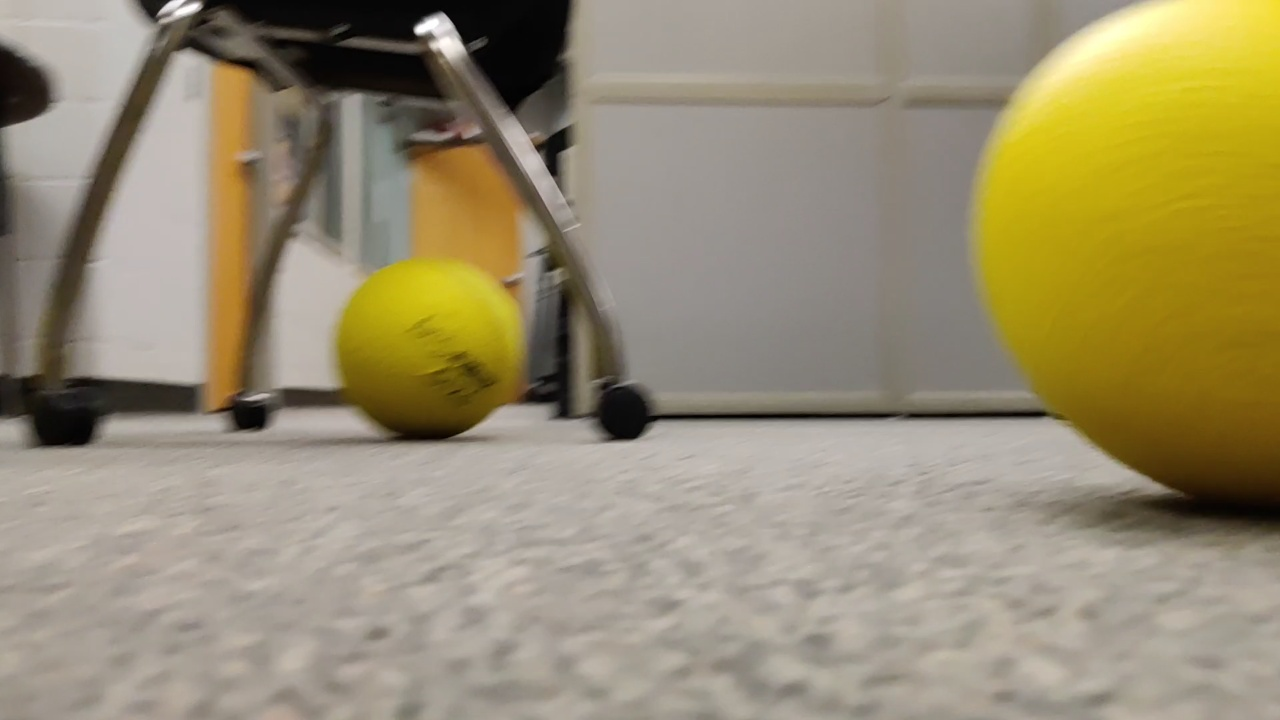Ball: (960, 2, 1276, 531), (326, 250, 520, 443)
